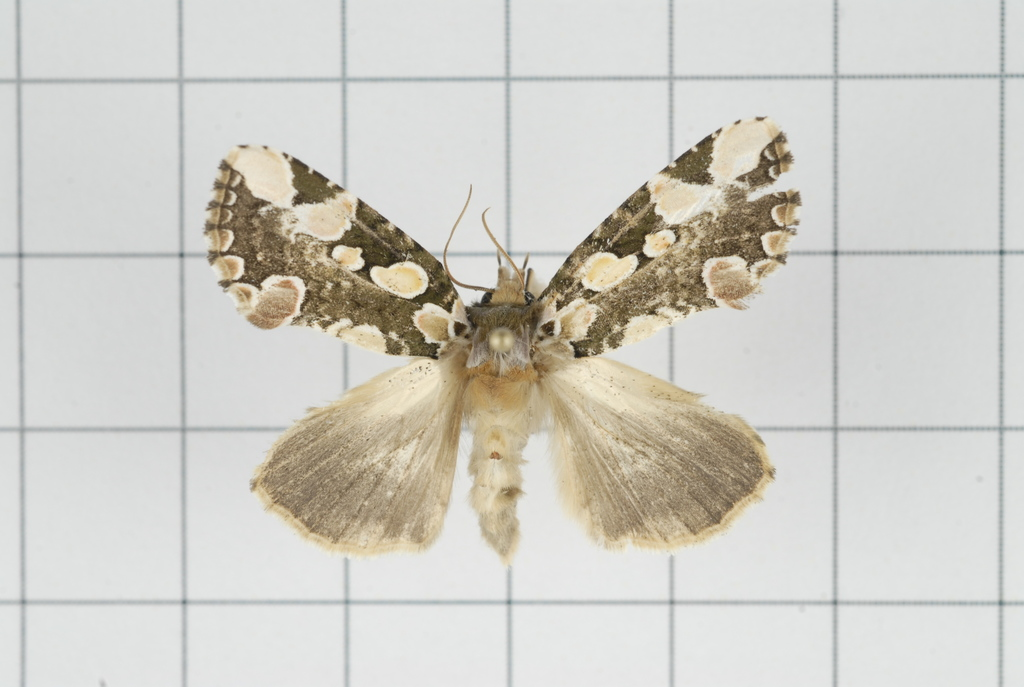Butterfly: (202, 116, 808, 572)
